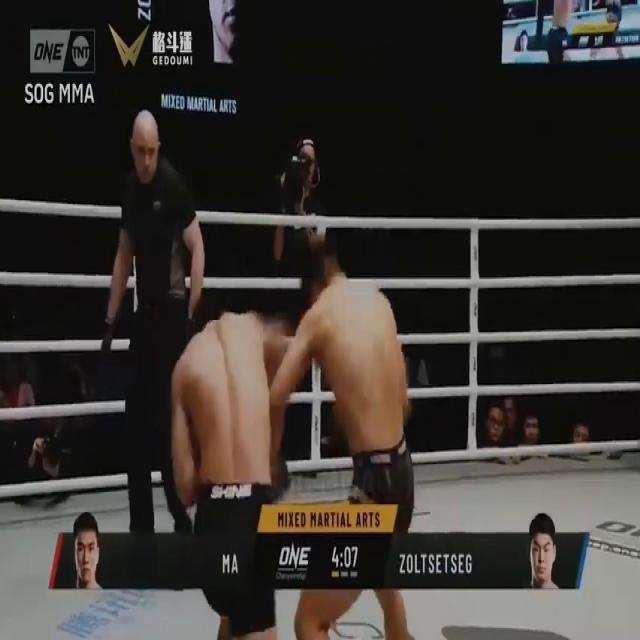fight: (154, 224, 458, 639)
